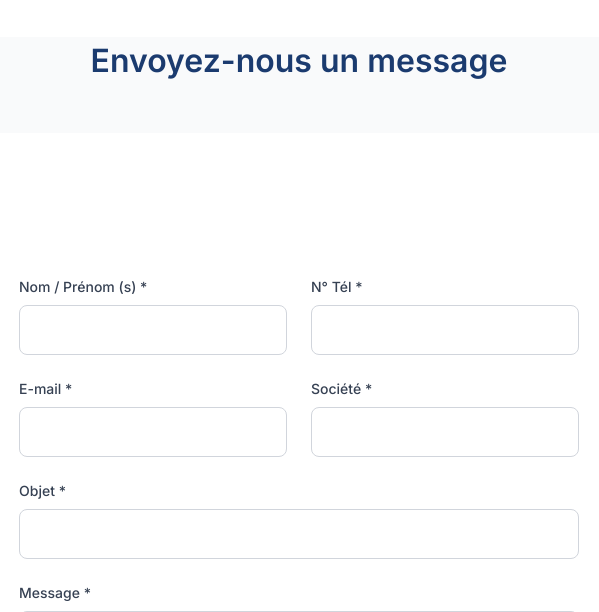
ContactForm — requiredness comes from configuration › follows the configuration when a field flips to required
Type "Aïcha O'Connor" into the field labelled "Nom / Prénom (s) *" at point(153, 330), box [19, 305, 287, 355]
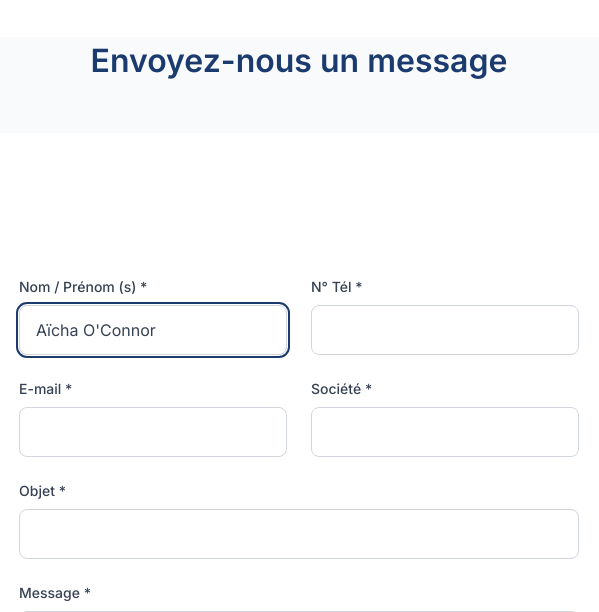
Type "+222 45 67 89 01" into the field labelled "N° Tél *" at point(445, 330), box [311, 305, 579, 355]
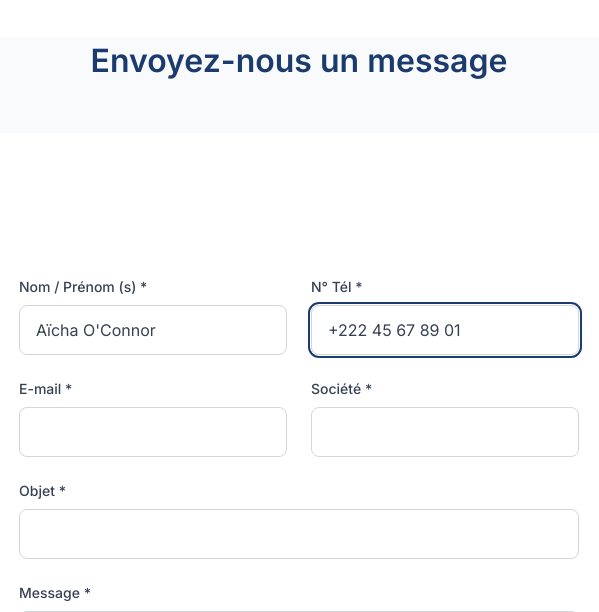
Type "aicha@example.com" into the field labelled "E-mail *" at point(153, 432), box [19, 407, 287, 457]
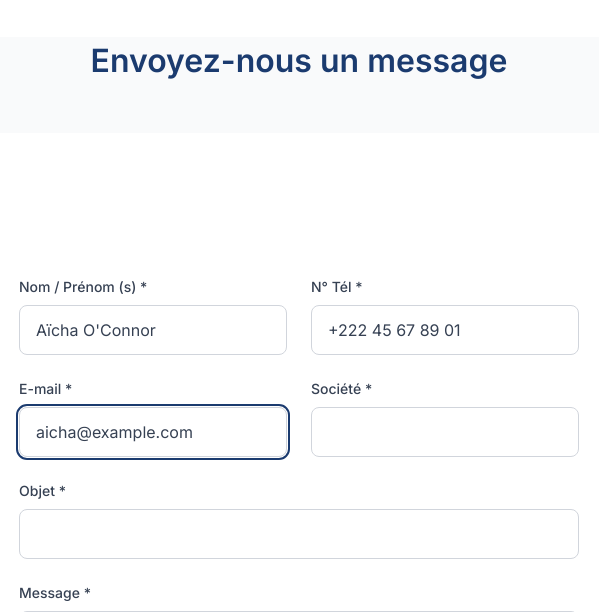
Type "SOGECO" into the field labelled "Société *" at point(445, 432), box [311, 407, 579, 457]
(page scrolled)
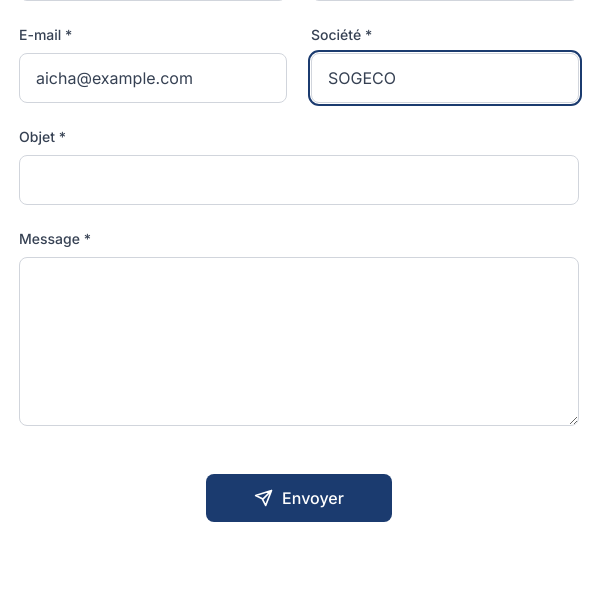
Type "Bonjour, je souhaite un devis pour du transport multimodal." into the text box labelled "Message *" at point(299, 342), box [19, 257, 579, 426]
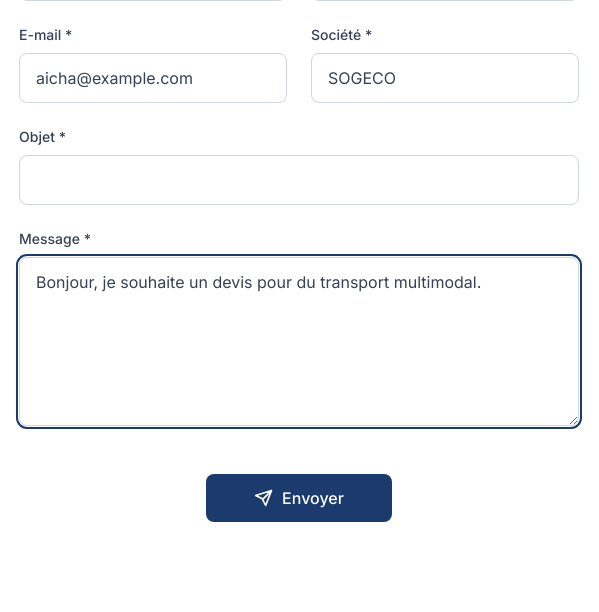
Click the button "Envoyer" at point(299, 498), box [206, 474, 392, 522]
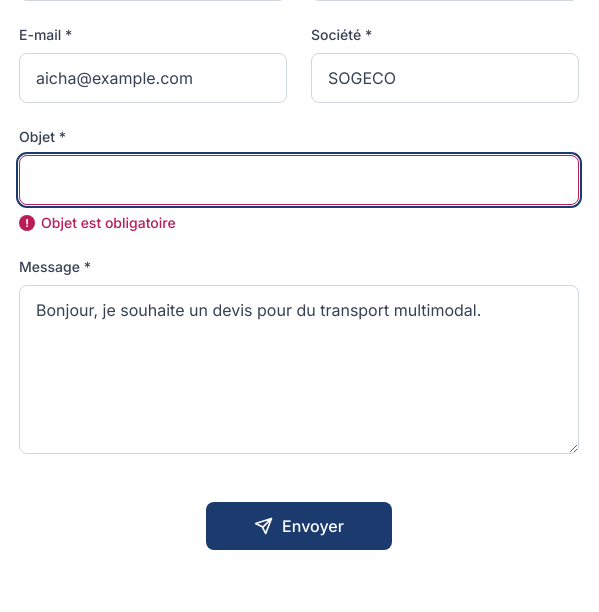
Expected: the text "Objet est obligatoire" is shown, [41, 214, 176, 231]
